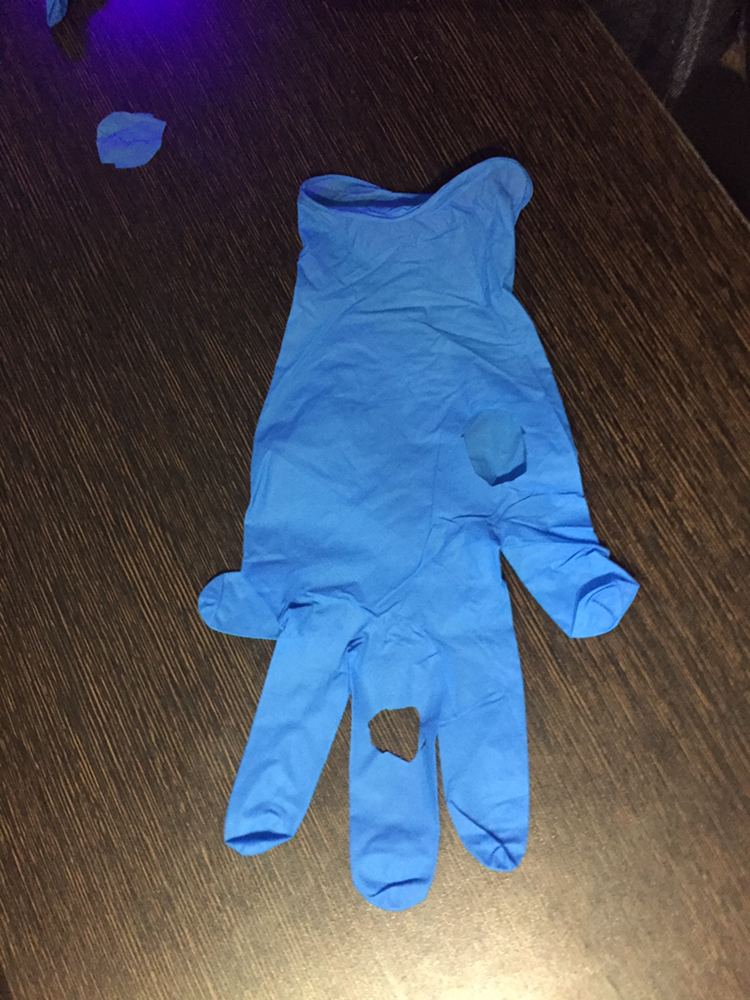defected: (141, 219, 688, 943)
